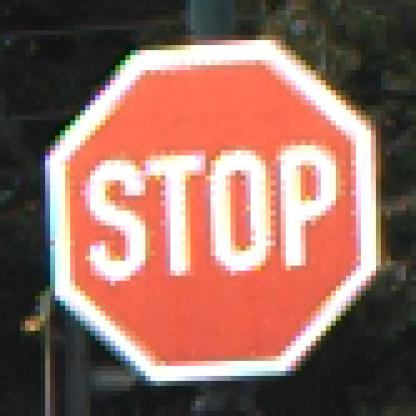stop: (34, 35, 393, 386)
